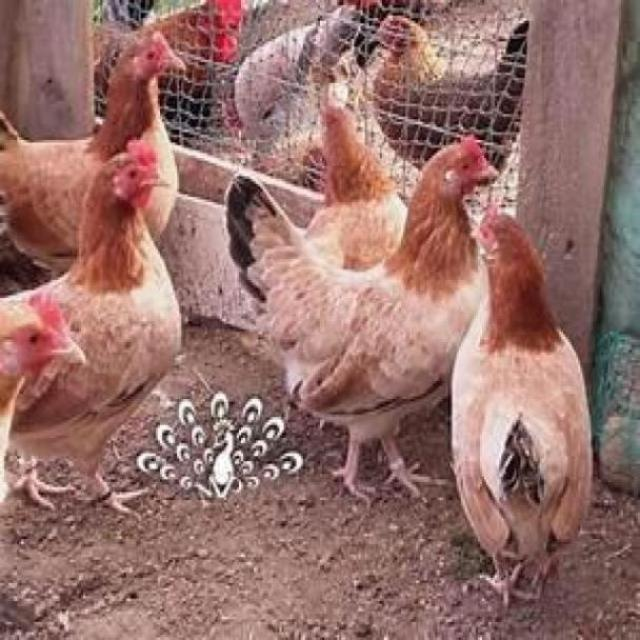Chicken: (226, 135, 501, 503), (0, 145, 183, 513), (448, 202, 593, 604), (0, 29, 186, 272), (371, 13, 531, 171), (93, 0, 244, 143), (303, 88, 410, 277), (0, 287, 87, 502)
